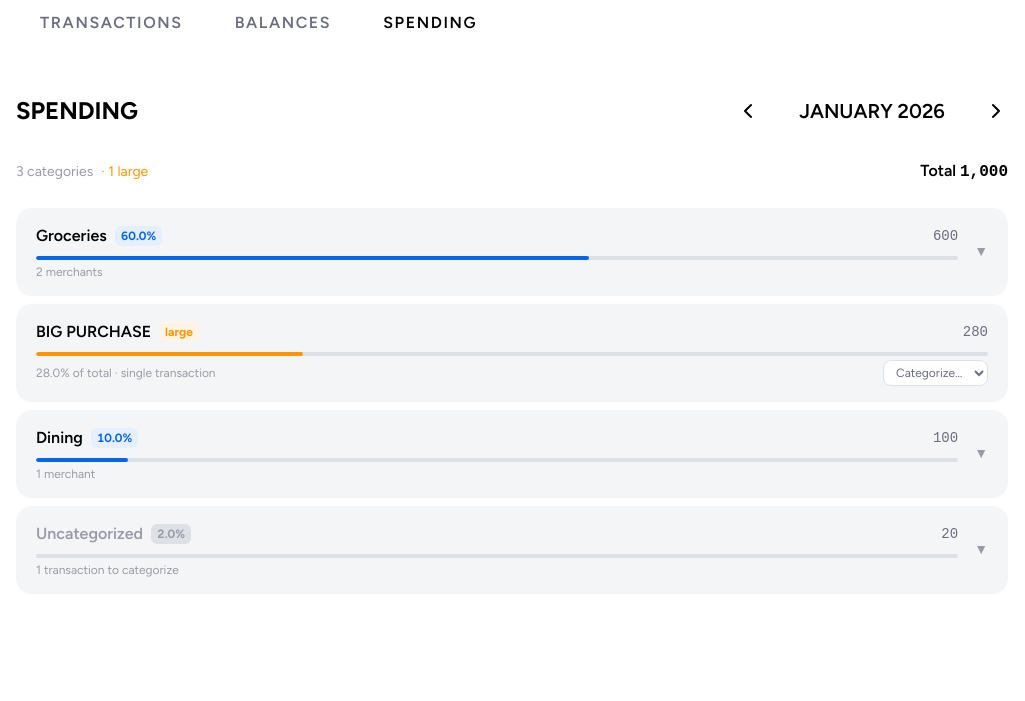
Test: Spending page › expands a category into its merchants and collapses it again
The image size is (1025, 701).
Expected: the text "CORNER SHOP" is not shown
What coordinates should you click on to do the following:
click the button "Groceries 60.0% 600 2 merchants ▼"
I would click on:
 (71, 236)
Its box is [16,208,1008,296].
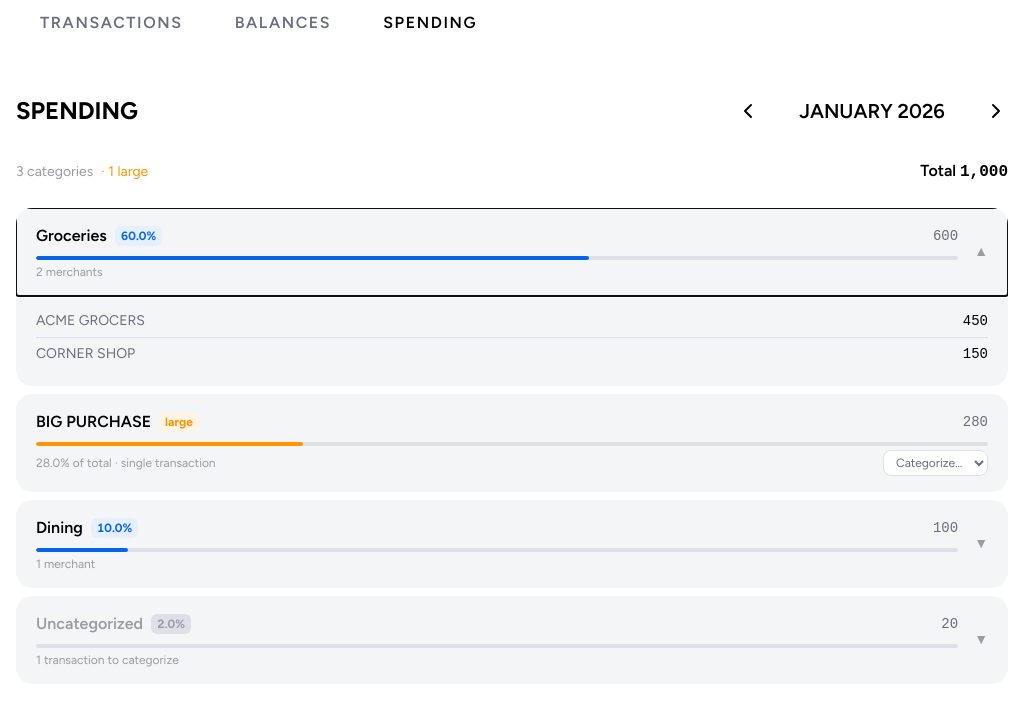
Result: the rows read "ACME GROCERS450", "CORNER SHOP150", in this order at [36,305,988,338]; [36,338,988,370]
Result: the button "Groceries 60.0% 600 2 merchants ▲" is shown
What coordinates should you click on to do the following:
click the button "Groceries 60.0% 600 2 merchants ▲"
I would click on:
 (71, 236)
Its box is [16,208,1008,296].
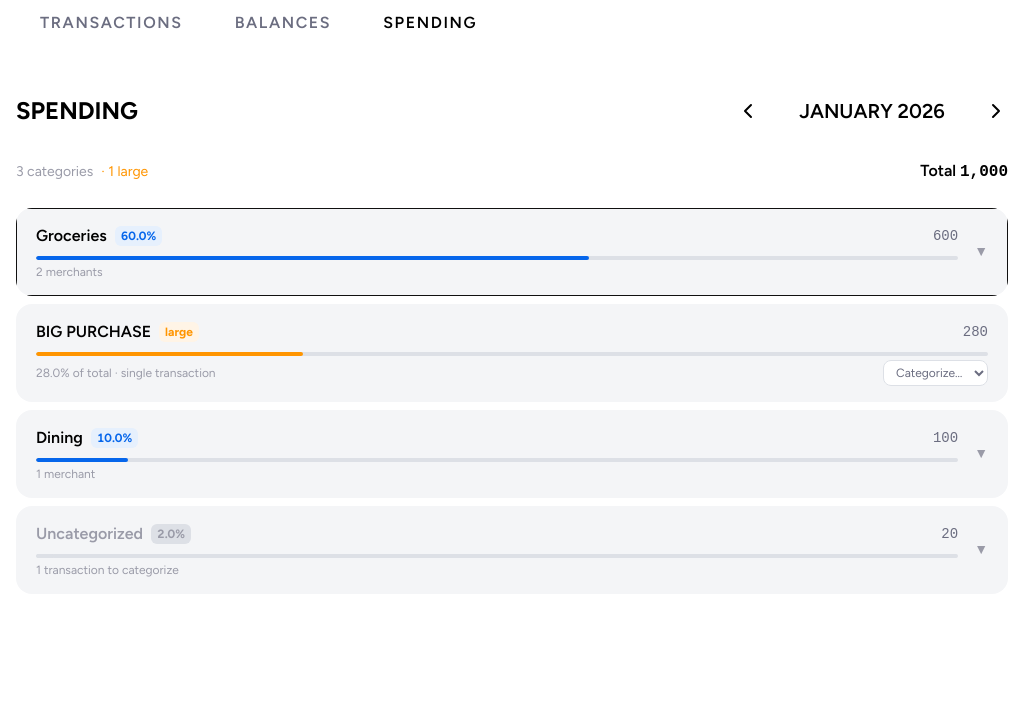
Result: the text "CORNER SHOP" is gone
